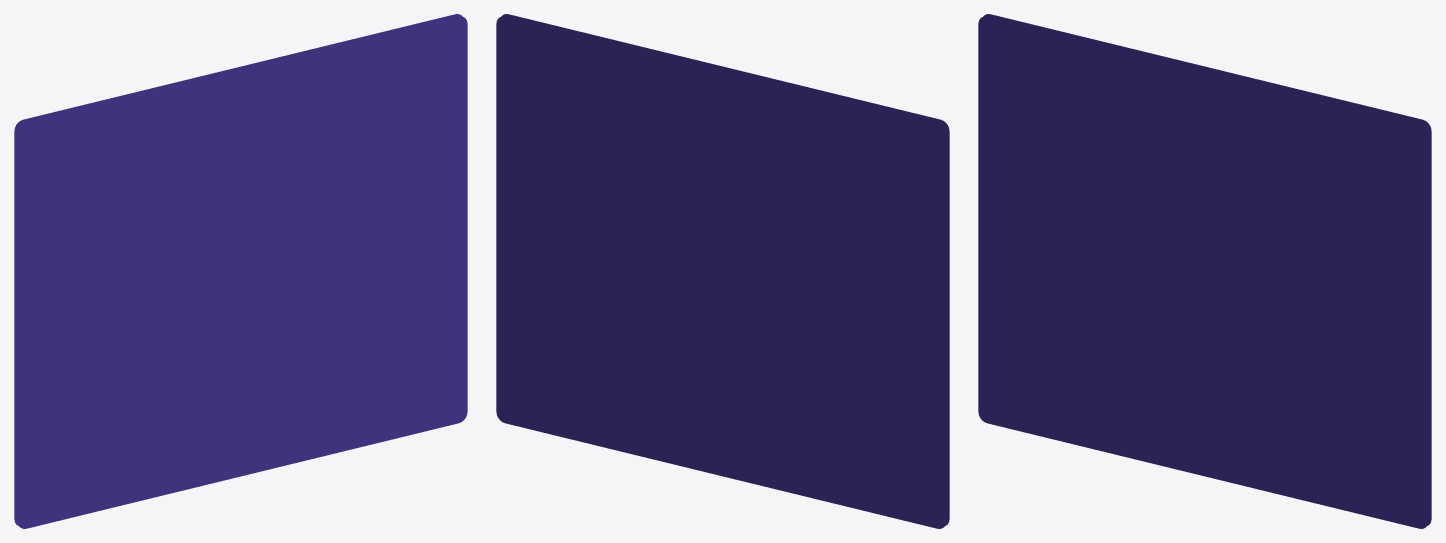
Rendered from L_WINDOW.fbx.
3 views of the same model, side by side, from view 1: azimuth 30°, elevation 25°; view 2: azimuth 150°, elevation 25°; view 3: azimuth 330°, elevation 25° (orthographic).
Parts seen in each view (by area): view 1: win_l001; view 2: win_l001; view 3: win_l001.
Part boxes in pixels (box(x1,y1,x2,y2)): win_l001: box(14, 14, 467, 528); win_l001: box(496, 14, 949, 528); win_l001: box(978, 14, 1431, 528).
Size of the model in its own units: 778 by 10 by 672.
